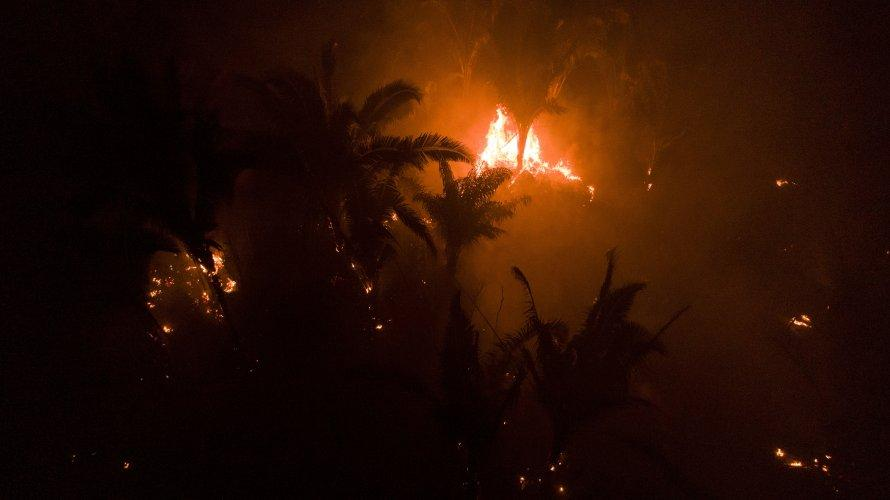fire: (483, 121, 545, 171)
